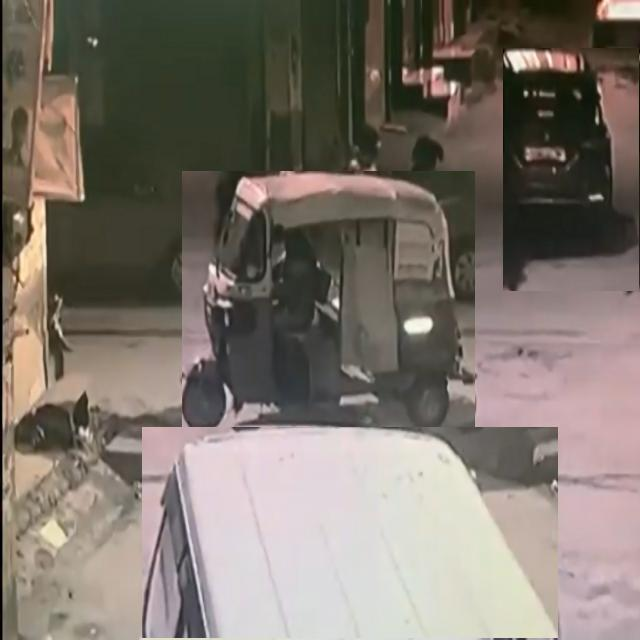autorickshaw: (182, 171, 475, 430)
car: (142, 427, 558, 638), (504, 48, 639, 291)
